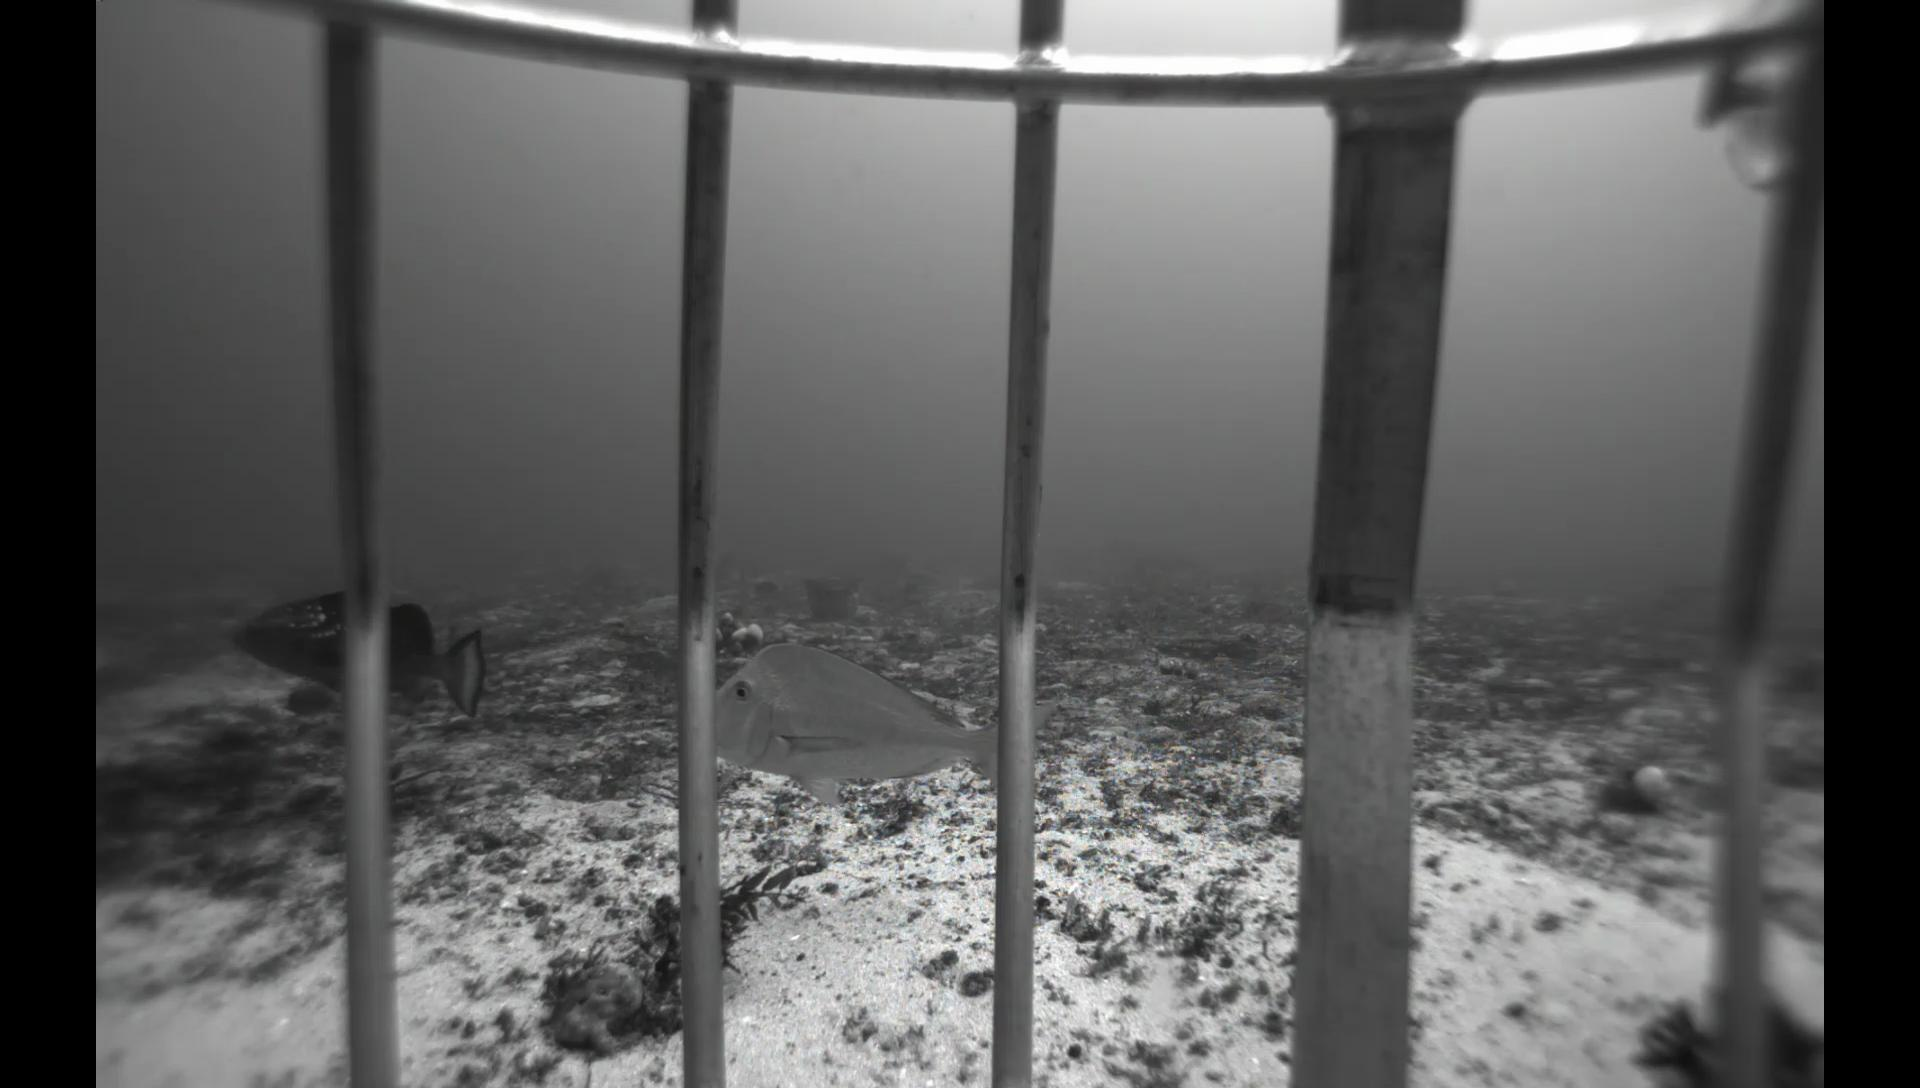CALAMUSNODOSUS-170210608: (712, 638, 1065, 818)
CHAETODONOCELLATUS-170260307: (886, 575, 913, 593), (725, 566, 749, 584)
EPINEPHELUSMORIO-170021211: (214, 578, 498, 731)
PAGRUSPAGRUS-170212302: (1677, 32, 1804, 193)
PRISTIGENYSALTA-170050401: (274, 680, 345, 721)
